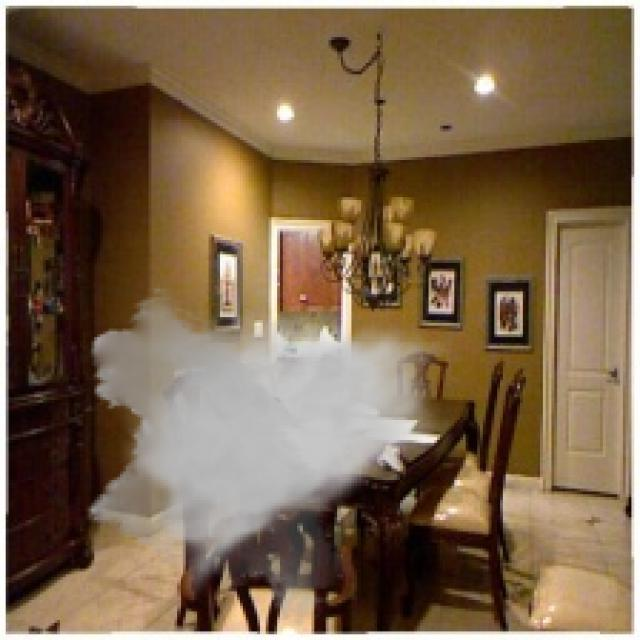Smoke: (80, 286, 452, 628)
